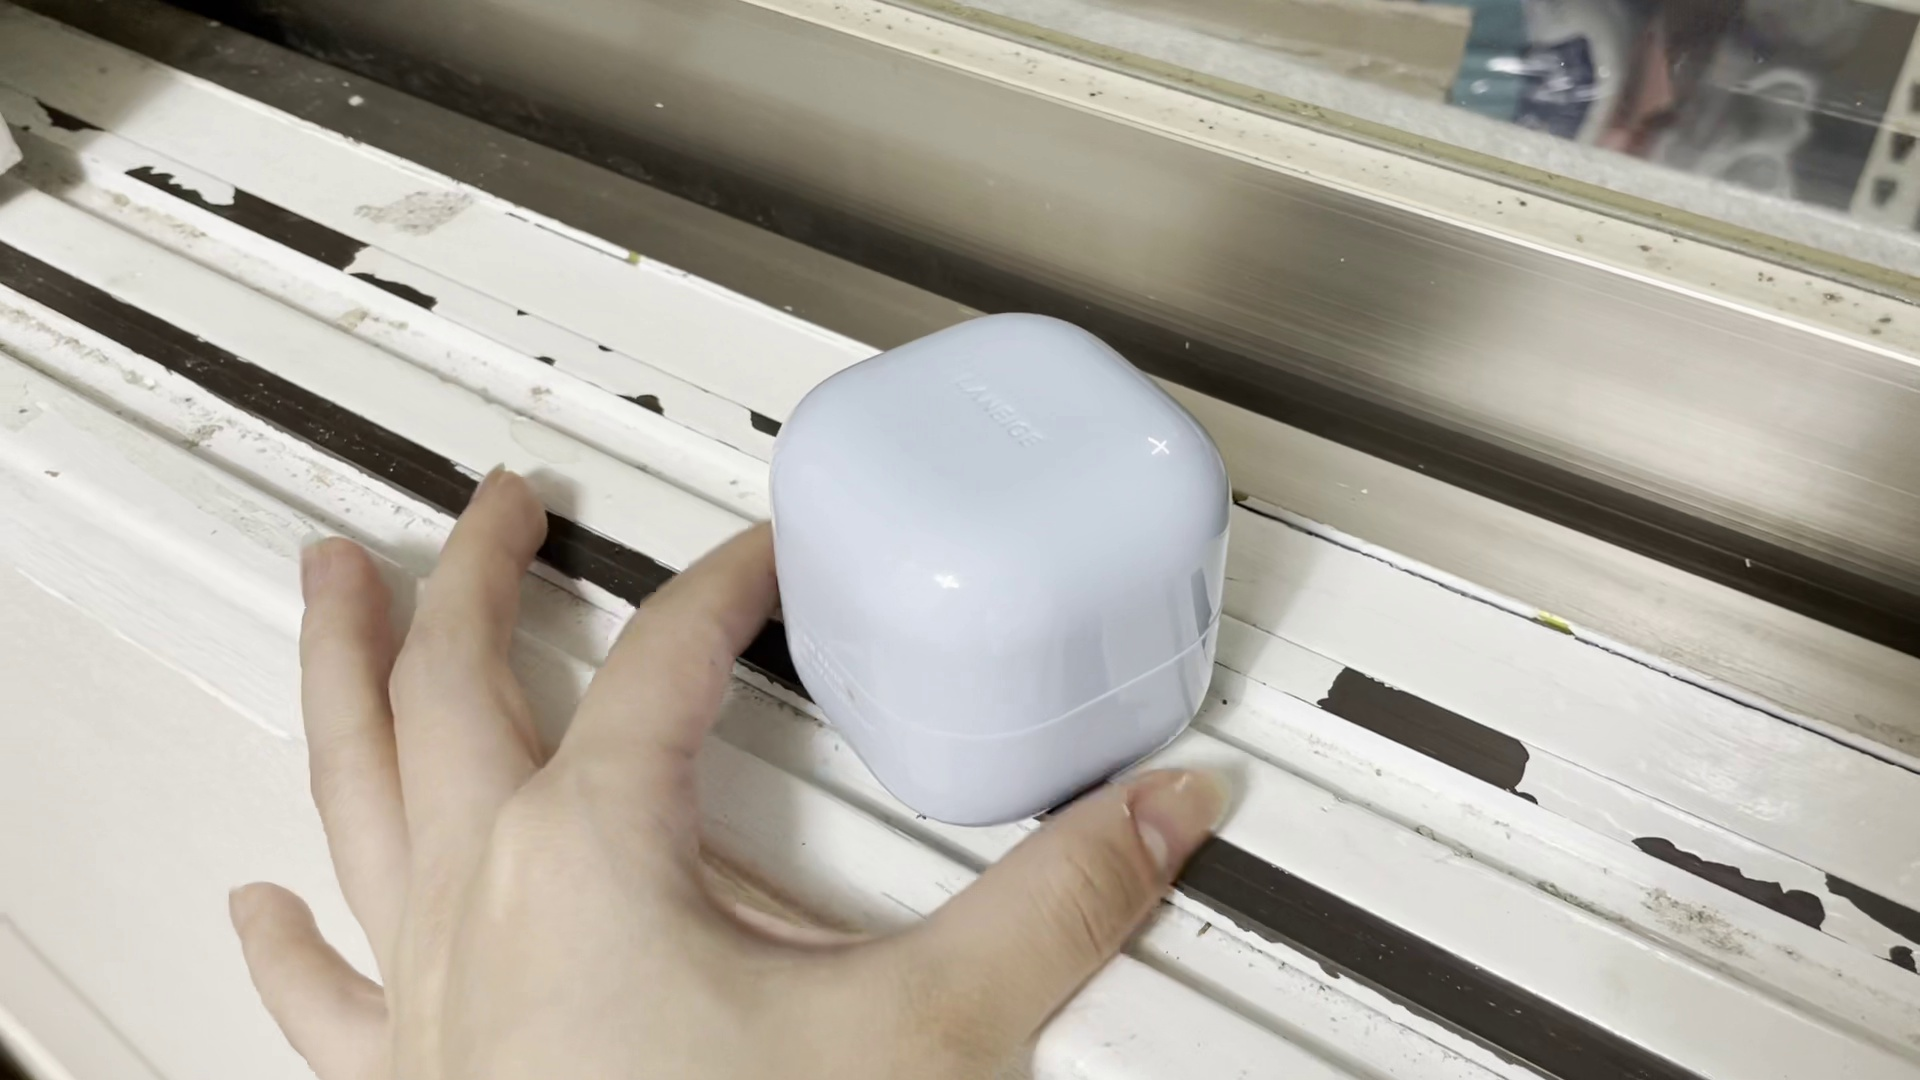cream: (775, 311, 1228, 818)
